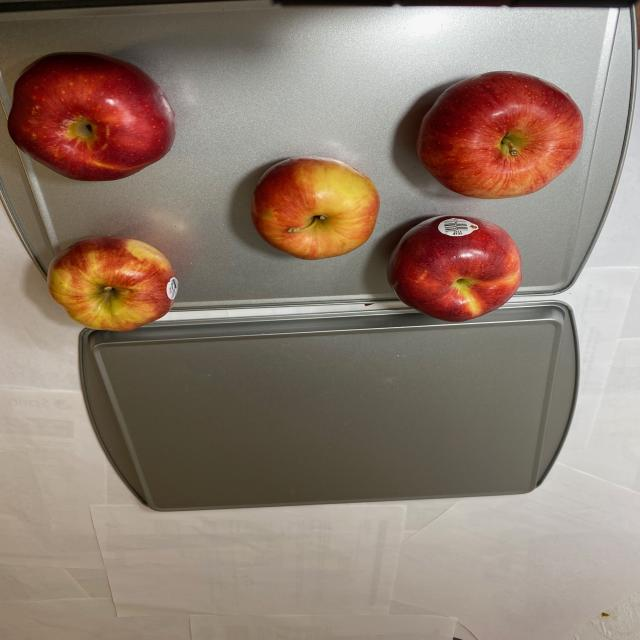apple: (244, 60, 584, 324), (1, 46, 180, 186), (45, 235, 187, 332)
